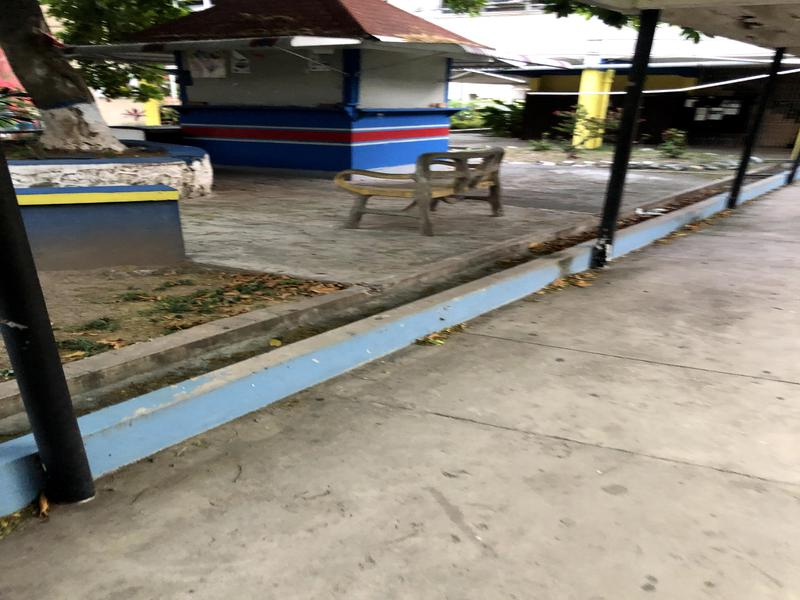18.0050864_-76.7496363_bench: (323, 133, 528, 249)
